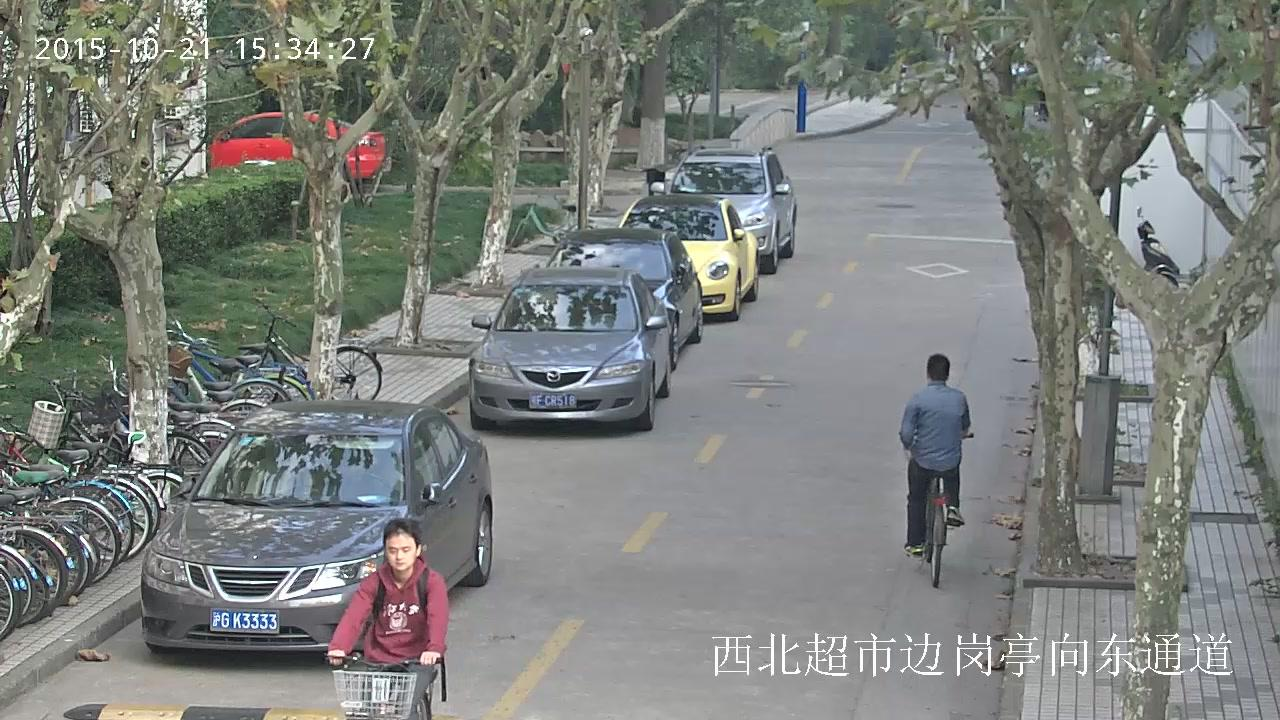person: (319, 517, 448, 720), (327, 518, 448, 720), (898, 354, 974, 589), (900, 354, 971, 559)
